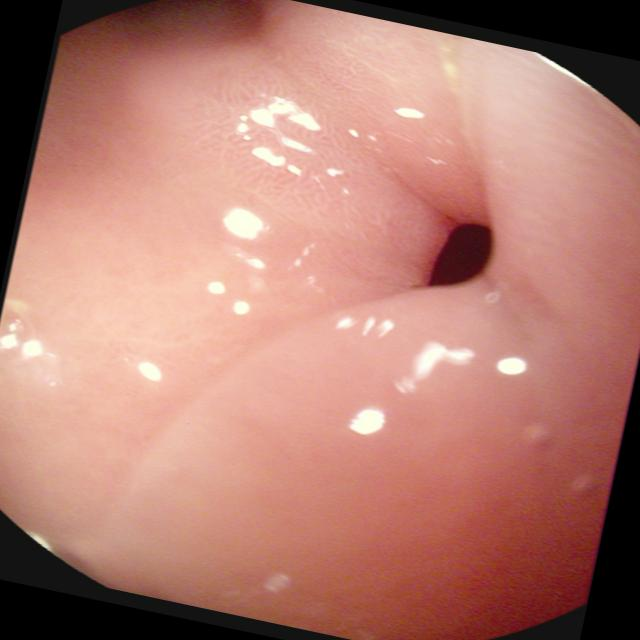normal-pylorus: (60, 7, 640, 640)
